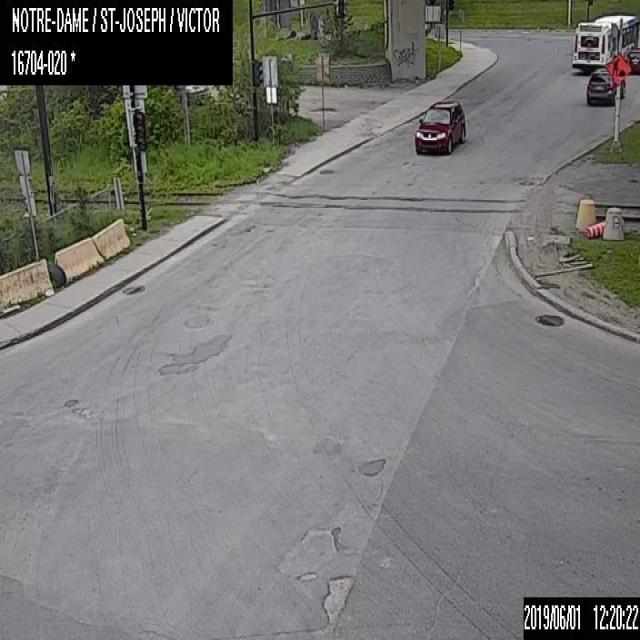bus: (571, 14, 639, 66)
construction: (604, 52, 631, 85), (584, 218, 605, 236)
vehicle: (414, 100, 465, 156), (585, 68, 625, 104), (628, 46, 639, 74)
